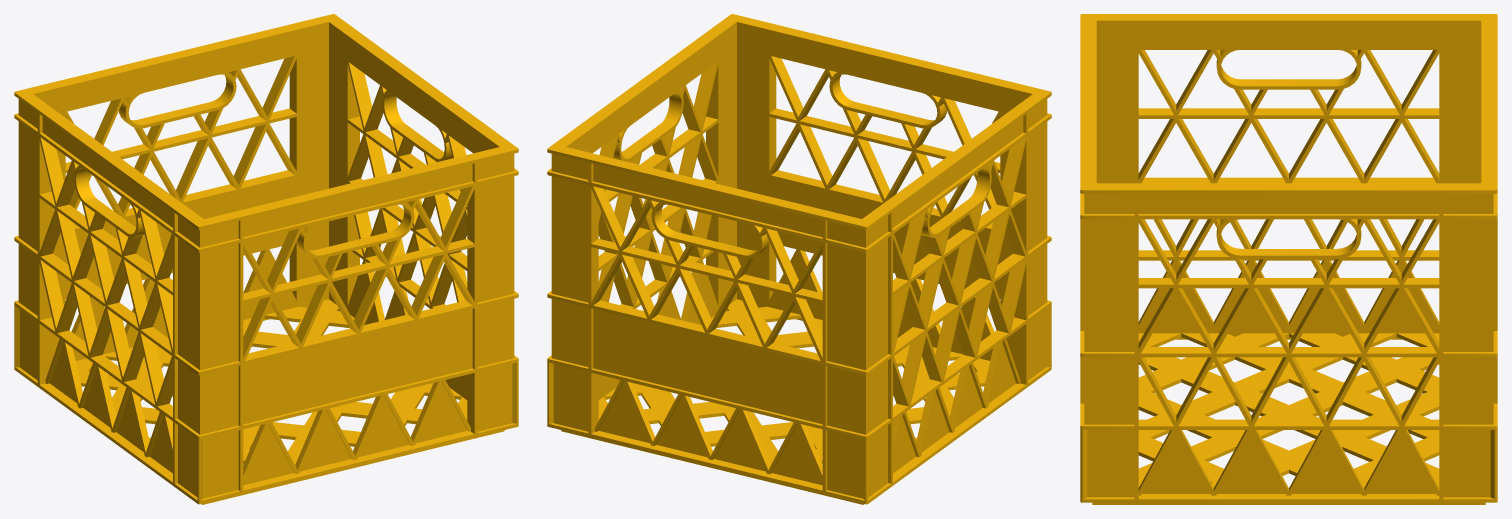
File: storage_crate.glb
The picture shows the model from 3 angles, left to right: view 1: azimuth 30°, elevation 25°; view 2: azimuth 150°, elevation 25°; view 3: azimuth 270°, elevation 25°; orthographic projection. The views are drawn at different scales.
Parts seen in each view (by area): view 1: Mesh3 Component_2_3 Group1 Model, Mesh4 Component_2_4 Group1 Model, Mesh1 Component_2_1 Group1 Model, Mesh2 Component_2_2 Group1 Model; view 2: Mesh2 Component_2_2 Group1 Model, Mesh1 Component_2_1 Group1 Model, Mesh4 Component_2_4 Group1 Model, Mesh3 Component_2_3 Group1 Model; view 3: Mesh1 Component_2_1 Group1 Model, Mesh4 Component_2_4 Group1 Model, Mesh2 Component_2_2 Group1 Model, Mesh3 Component_2_3 Group1 Model.
Boxes of the visible parts, <box> form: Mesh3 Component_2_3 Group1 Model: <box>106,156,358,504</box>; Mesh4 Component_2_4 Group1 Model: <box>304,81,518,467</box>; Mesh1 Component_2_1 Group1 Model: <box>174,14,426,348</box>; Mesh2 Component_2_2 Group1 Model: <box>14,53,180,436</box>; Mesh2 Component_2_2 Group1 Model: <box>707,156,959,504</box>; Mesh1 Component_2_1 Group1 Model: <box>547,81,761,467</box>; Mesh4 Component_2_4 Group1 Model: <box>639,14,891,348</box>; Mesh3 Component_2_3 Group1 Model: <box>885,53,1051,436</box>; Mesh1 Component_2_1 Group1 Model: <box>1289,102,1497,504</box>; Mesh4 Component_2_4 Group1 Model: <box>1080,102,1288,504</box>; Mesh2 Component_2_2 Group1 Model: <box>1289,14,1497,416</box>; Mesh3 Component_2_3 Group1 Model: <box>1080,14,1288,416</box>.
Size of the model in its own units: 13 by 11 by 13.
